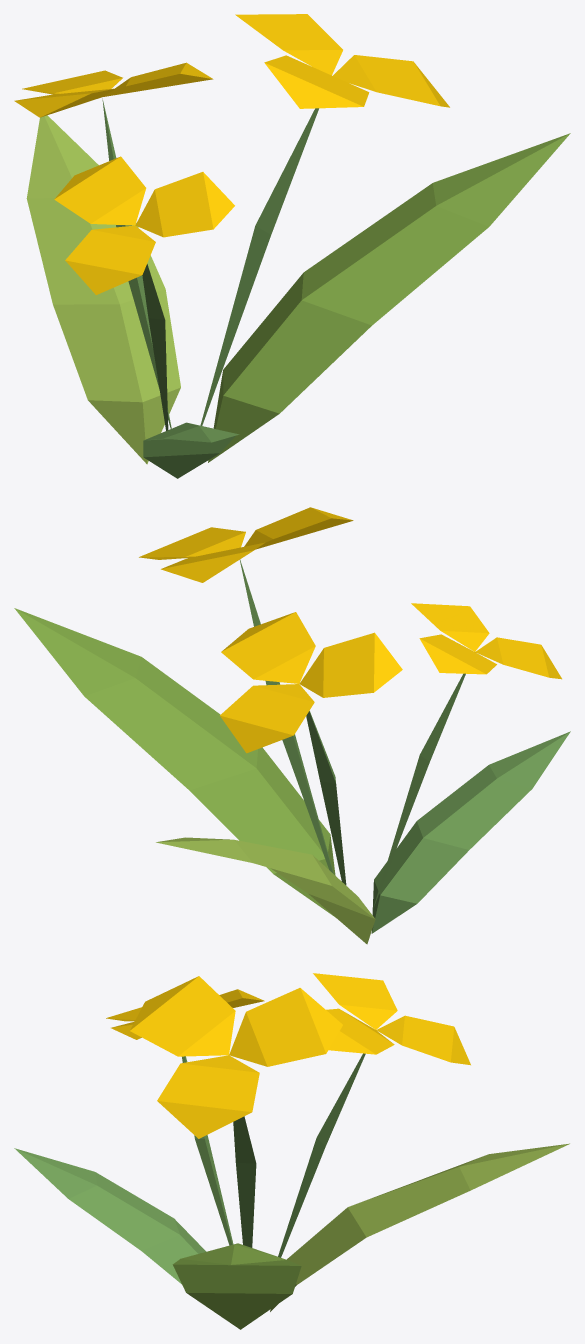
Rendered from flowers4.glb.
3 renders of one model, top to bottom at view 1: azimuth 30°, elevation 25°; view 2: azimuth 150°, elevation 25°; view 3: azimuth 270°, elevation 25°, orthographic. The views are drawn at different scales.
Parts seen in each view (by area): view 1: flowers4; view 2: flowers4; view 3: flowers4.
Part boxes in pixels (bbox=[...]): flowers4: bbox=[14, 14, 570, 478]; flowers4: bbox=[14, 507, 570, 944]; flowers4: bbox=[14, 973, 569, 1329].
Bounding box in the file's own units: 2.09 × 1.54 × 2.07.
2 materials, 1 textured.
